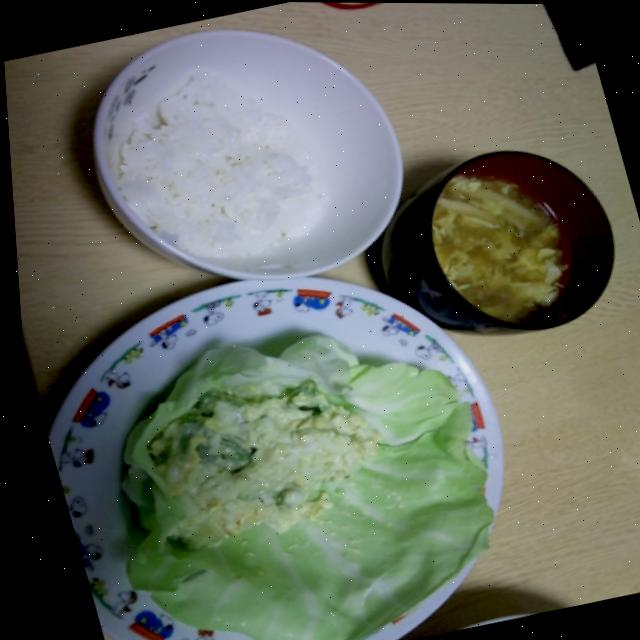汤锅炖物: (361, 125, 640, 361)
米饭主食: (42, 0, 435, 326)
蔬菜料理: (12, 225, 532, 640)
